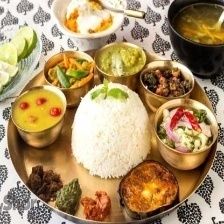sabzi: (140, 64, 194, 101)
